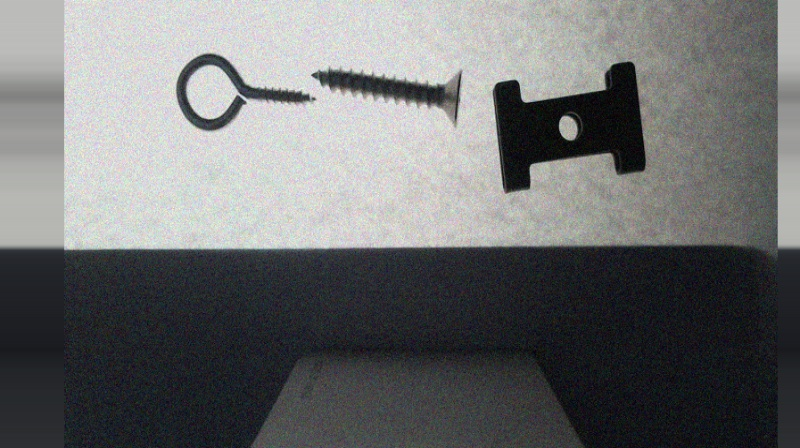O001: (175, 52, 317, 132)
O002: (492, 62, 646, 191)
S001: (313, 67, 462, 126)
